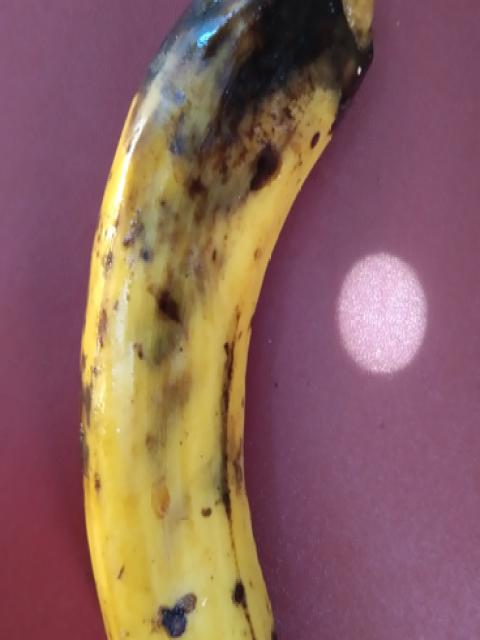rotten: (56, 0, 414, 630)
